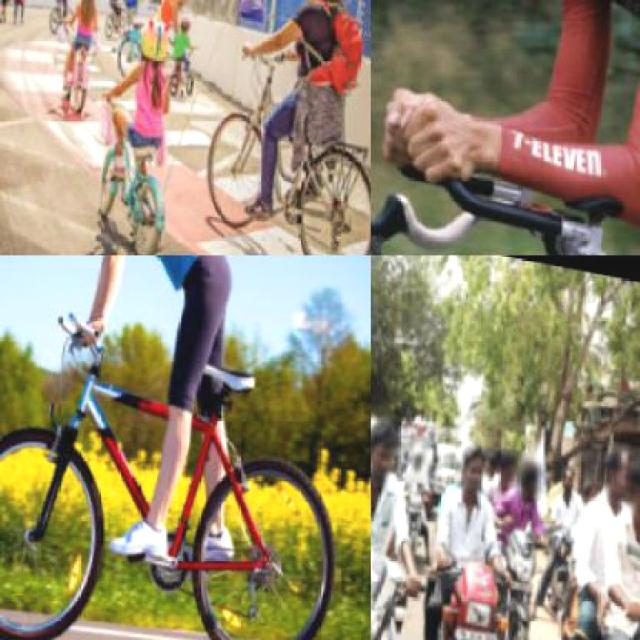With Helmet: (124, 10, 173, 67)
Without Helmet: (446, 432, 496, 501), (597, 436, 638, 504), (371, 409, 403, 483), (510, 447, 544, 498), (617, 438, 638, 518), (400, 431, 432, 482), (552, 450, 583, 502), (493, 444, 519, 488)
